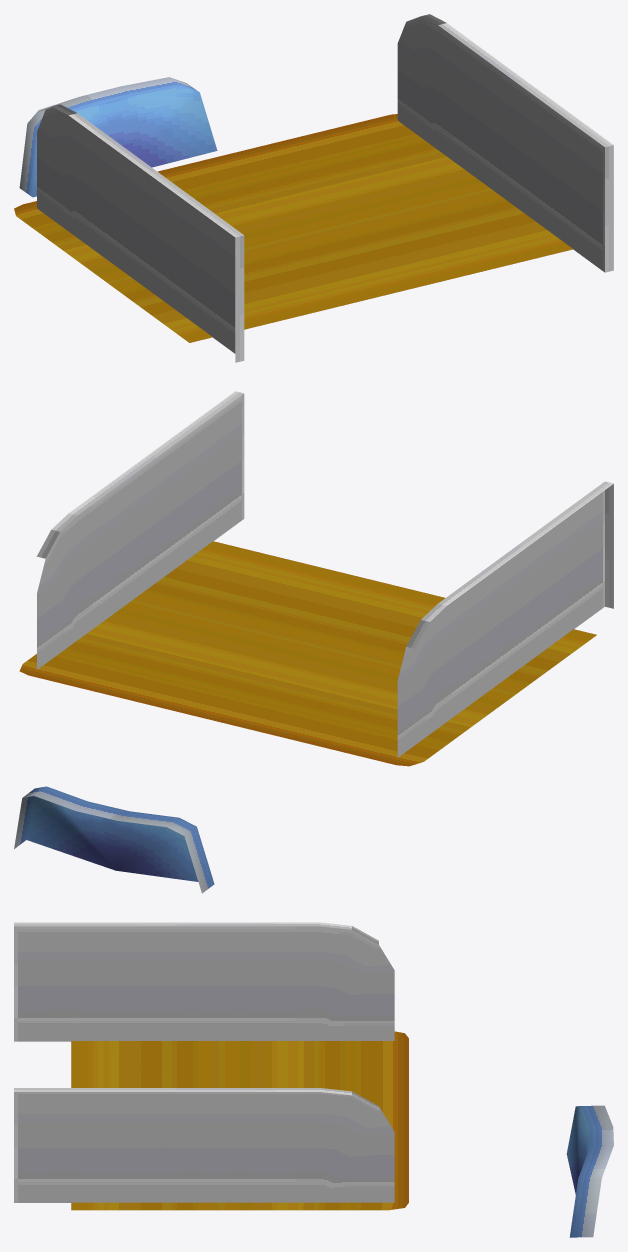
File: desk.glb
The picture shows the model from 3 angles, top to bottom: view 1: azimuth 30°, elevation 25°; view 2: azimuth 150°, elevation 25°; view 3: azimuth 270°, elevation 25°; orthographic projection. The views are drawn at different scales.
Visible parts, largest first — view 1: cityhall; view 2: cityhall; view 3: cityhall.
Boxes of the visible parts, box(x1,y1,x2,y2) form: cityhall: box(14, 14, 613, 362); cityhall: box(14, 391, 613, 893); cityhall: box(14, 922, 613, 1237).
Bounding box in the file's own units: 3.35 × 1.67 × 4.73.
3 materials, 3 textured.
